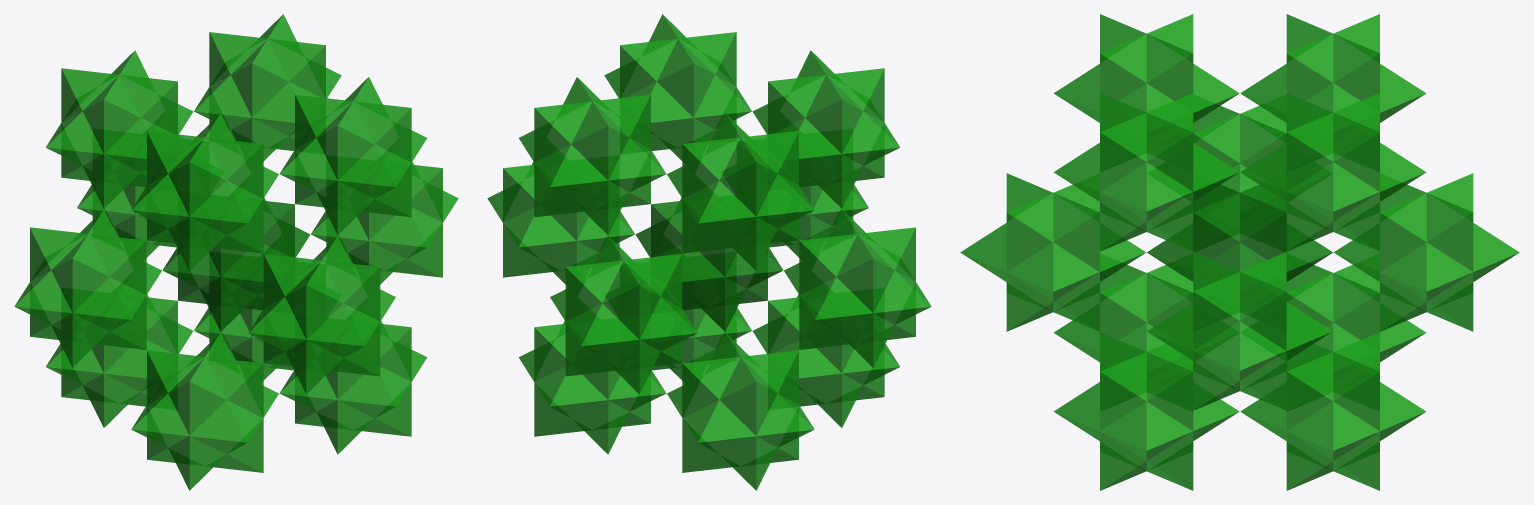
Rendered from fractalescher1.glb.
The picture shows the model from 3 angles, left to right: view 1: azimuth 30°, elevation 25°; view 2: azimuth 150°, elevation 25°; view 3: azimuth 270°, elevation 25°; orthographic projection. The views are drawn at different scales.
Size of the model in its own units: 12.43 by 8.79 by 12.43.
